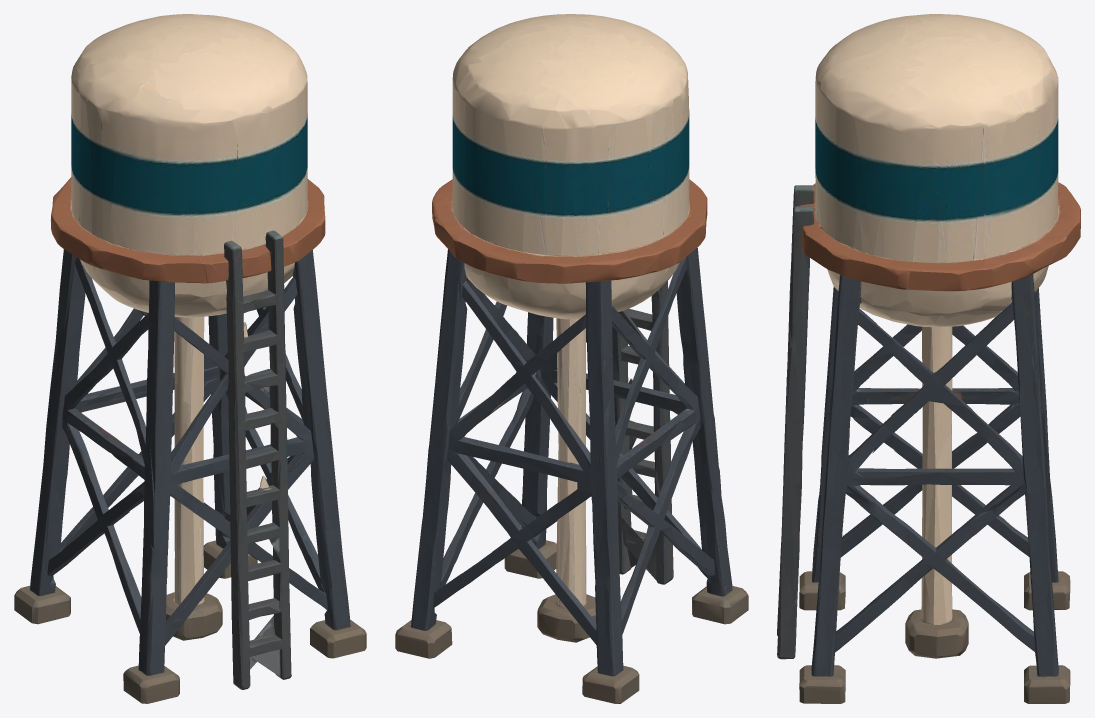
File: watertower.glb
The picture shows the model from 3 angles, left to right: view 1: azimuth 30°, elevation 25°; view 2: azimuth 150°, elevation 25°; view 3: azimuth 270°, elevation 25°; orthographic projection. The views are drawn at different scales.
Size of the model in its own units: 0.8036 by 1.9 by 0.8579.
1 material, 1 textured.
